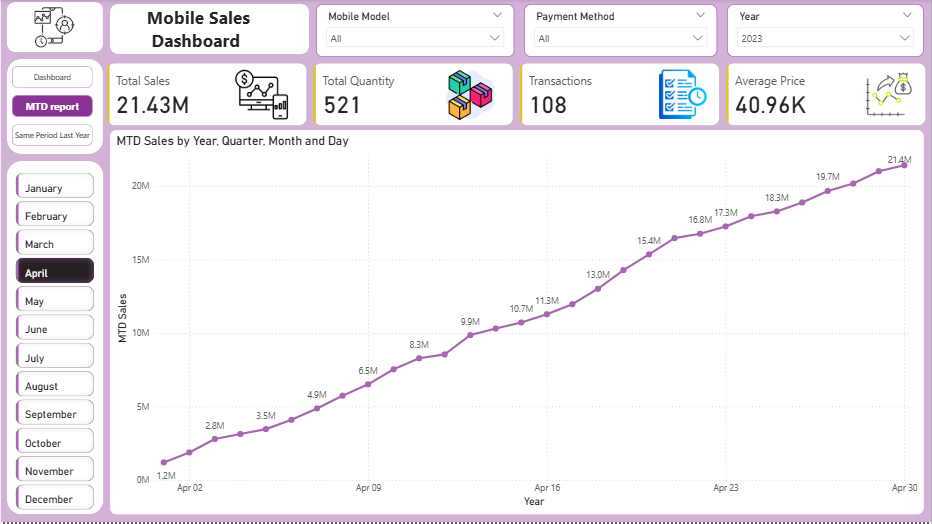

The page's visual inventory and layout, read from the dashboard file:
{"tool":"powerbi","page":{"name":"MTD report","canvas":[1280,720],"ordinal":1},"visuals":[{"type":"shape","box":[8.3,4.1,132.1,68.8],"z":0},{"type":"shape","box":[8.3,82.6,132.1,130.8],"z":1000},{"type":"shape","box":[8.5,222.7,132.5,486.3],"z":2000},{"type":"advancedSlicerVisual","fields":{"Values":["Date.Date.Variation.Date Hierarchy.Month"]},"box":[15.5,234,118.4,475.1],"z":3000},{"type":"image","box":[41.3,5.5,64.7,67.4],"z":4000},{"type":"cardVisual","fields":{"Data":["_measures.Total Sales","_measures.Total Quantity","_measures.Total Transactions","_measures.Average Price"]},"box":[140.4,82.6,1139.6,97.7],"z":5000},{"type":"image","box":[293.2,88.1,130.8,86.7],"z":6000},{"type":"image","box":[580.8,92.2,129.4,79.8],"z":7000},{"type":"image","box":[846.5,92.2,183.1,78.5],"z":8000},{"type":"image","box":[1164.4,95,115.6,72.9],"z":9000},{"type":"slicer","fields":{"Values":["sale_data.Mobile Model"]},"box":[433.5,6.9,272.5,72.9],"z":10000},{"type":"slicer","fields":{"Values":["sale_data.Payment Method"]},"box":[719.8,6.9,265.6,72.9],"z":11000},{"type":"slicer","fields":{"Values":["Date.Date.Variation.Date Hierarchy.Year"]},"box":[999.2,6.9,271.1,72.9],"z":12000},{"type":"shape","box":[150,6.9,273.9,68.8],"z":13000},{"type":"textbox","box":[195.4,2.8,253.2,79.8],"z":14000},{"type":"lineChart","fields":{"Category":["Date.Date.Variation.Date Hierarchy.Year","Date.Date.Variation.Date Hierarchy.Quarter","Date.Date.Variation.Date Hierarchy.Month","Date.Date.Variation.Date Hierarchy.Day"],"Y":["_measures.MTD Sales"]},"box":[150,180.3,1120.3,528.5],"z":15000},{"type":"pageNavigator","box":[15.1,92.2,111.5,110.1],"z":16000}]}

Visuals, with their boxes in screenshot pixels (x1, y1, x2, y2), scaled from the page's 1280x720 canvas onto the 932x524 screenshot:
shape: region(6, 3, 102, 53)
shape: region(6, 60, 102, 155)
shape: region(6, 162, 103, 516)
advancedSlicerVisual - Date.Date.Variation.Date Hierarchy.Month: region(11, 170, 97, 516)
image: region(30, 4, 77, 53)
cardVisual - _measures.Total Sales x _measures.Total Quantity: region(102, 60, 931, 131)
image: region(213, 64, 309, 127)
image: region(423, 67, 517, 125)
image: region(616, 67, 750, 124)
image: region(848, 69, 931, 122)
slicer - sale_data.Mobile Model: region(316, 5, 514, 58)
slicer - sale_data.Payment Method: region(524, 5, 717, 58)
slicer - Date.Date.Variation.Date Hierarchy.Year: region(728, 5, 925, 58)
shape: region(109, 5, 309, 55)
textbox: region(142, 2, 327, 60)
lineChart - Date.Date.Variation.Date Hierarchy.Year x Date.Date.Variation.Date Hierarchy.Quarter: region(109, 131, 925, 516)
pageNavigator: region(11, 67, 92, 147)
